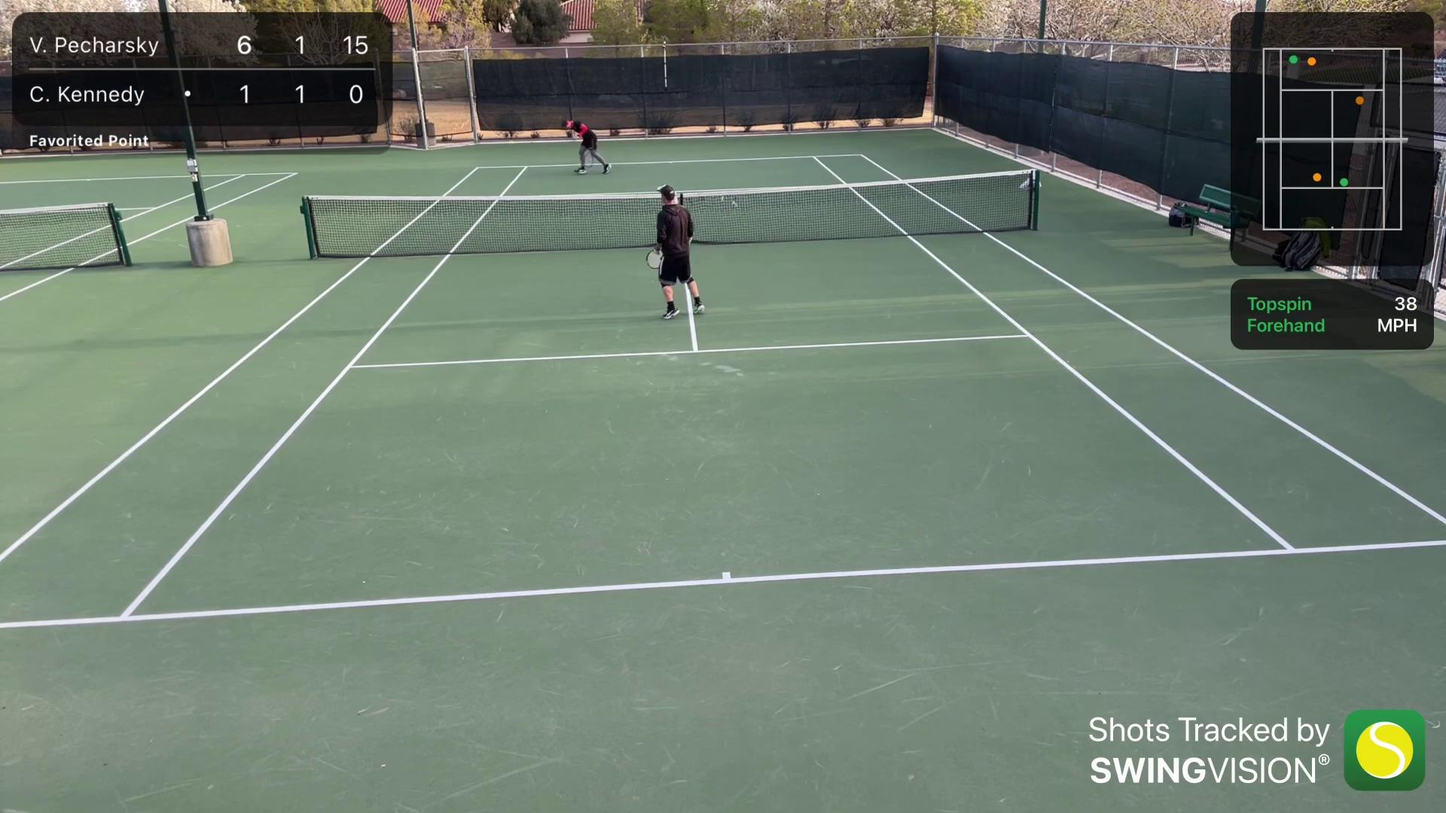ball: (509, 138, 514, 141)
